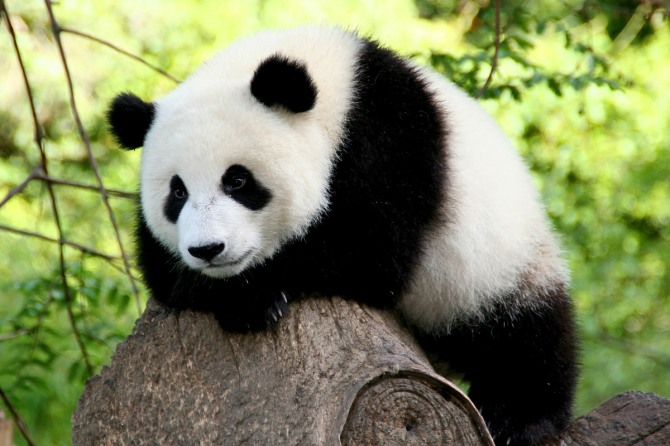panda: (104, 20, 600, 446)
